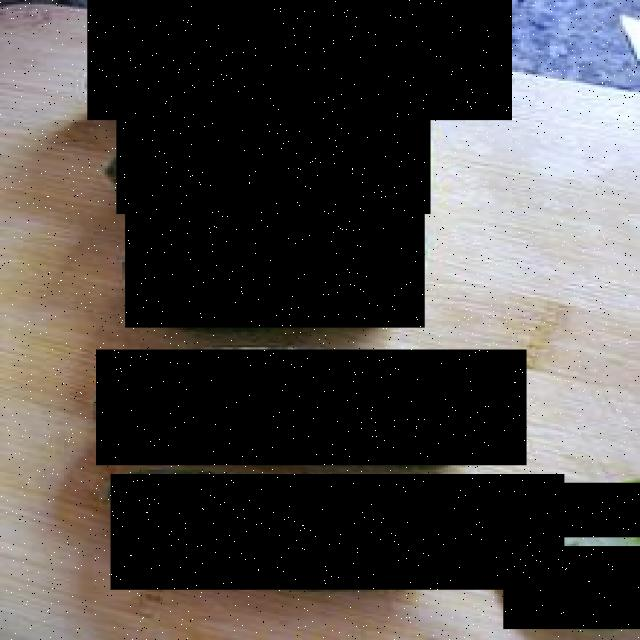Chili_Pepper: (111, 475, 564, 590), (87, 0, 512, 120), (96, 351, 527, 465), (116, 87, 431, 214), (125, 208, 425, 328), (503, 546, 640, 629), (518, 483, 640, 537)
